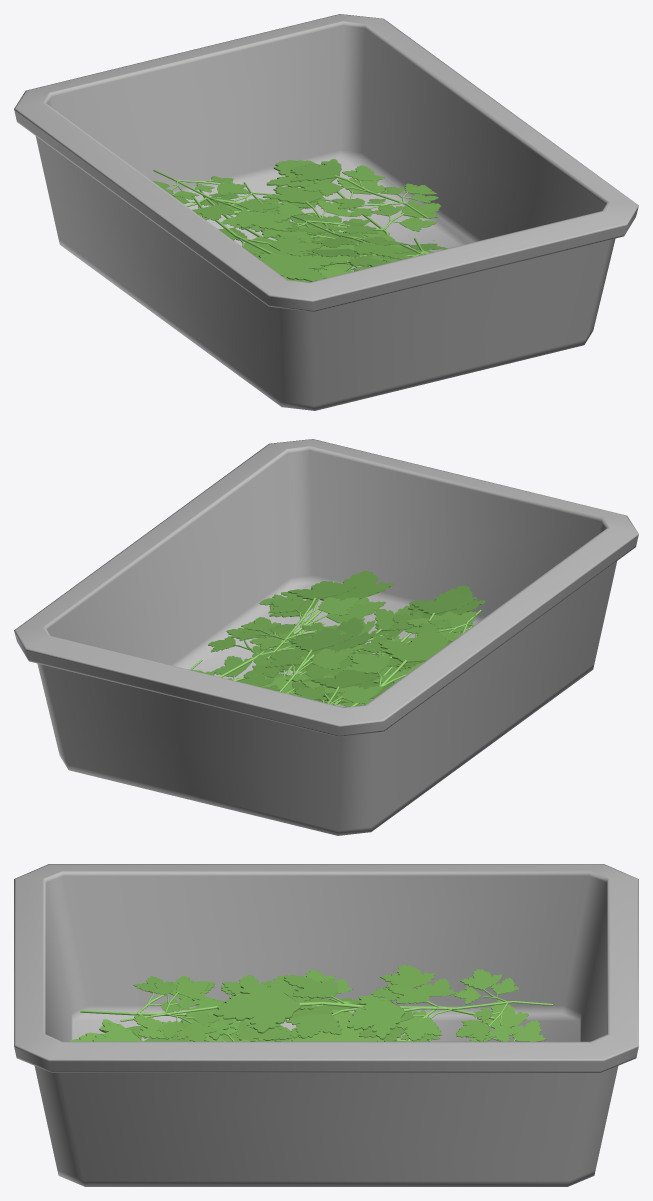
File: Cilantro.fbx
3 renders of one model, top to bottom at view 1: azimuth 30°, elevation 25°; view 2: azimuth 150°, elevation 25°; view 3: azimuth 270°, elevation 25°, orthographic. The views are drawn at different scales.
Visible parts, largest first — view 1: CilantroContainer, CilantroPile; view 2: CilantroContainer, CilantroPile; view 3: CilantroContainer, CilantroPile.
Part boxes in pixels (left/top/right/bottom): CilantroContainer: left=14, top=14, right=638, bottom=410; CilantroPile: left=152, top=159, right=447, bottom=282; CilantroContainer: left=14, top=439, right=638, bottom=835; CilantroPile: left=188, top=570, right=485, bottom=707; CilantroContainer: left=14, top=864, right=638, bottom=1186; CilantroPile: left=70, top=964, right=552, bottom=1041.
Size of the model in its own units: 439 by 168 by 591.
